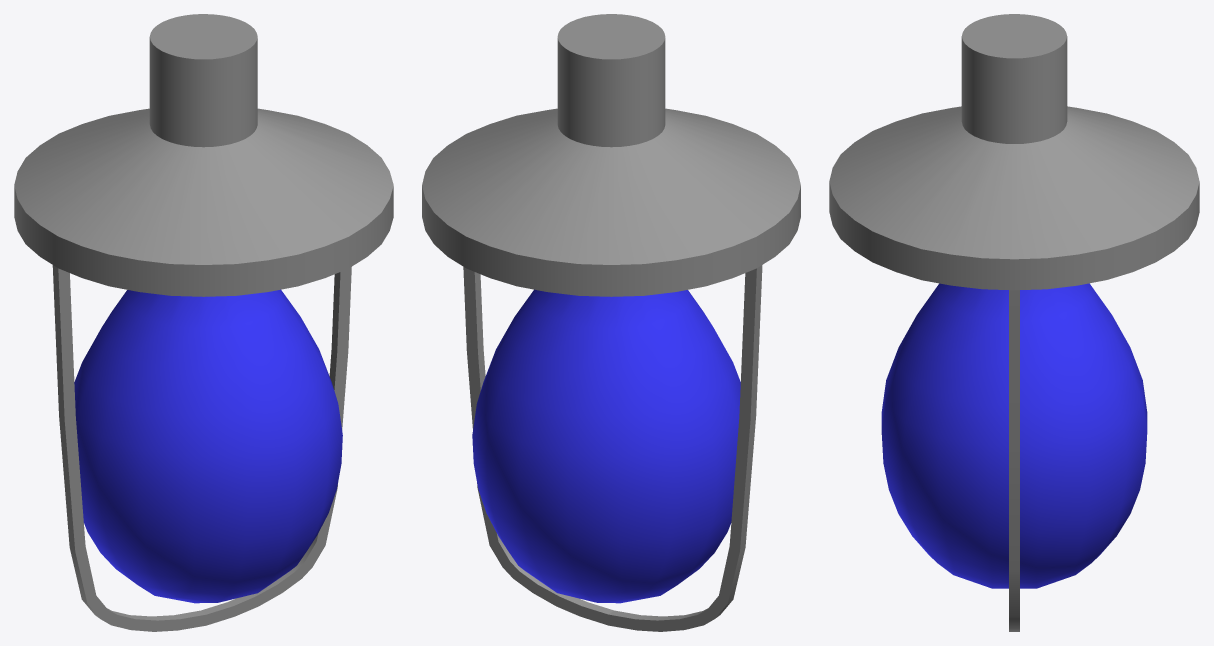
File: Lights_02_mesh.fbx
3 renders of one model, left to right at view 1: azimuth 30°, elevation 25°; view 2: azimuth 150°, elevation 25°; view 3: azimuth 270°, elevation 25°, orthographic. The views are drawn at different scales.
Visible parts, largest first — view 1: Lights_02_mesh; view 2: Lights_02_mesh; view 3: Lights_02_mesh.
Part boxes in pixels (bbox=[...]): Lights_02_mesh: bbox=[14, 14, 393, 631]; Lights_02_mesh: bbox=[422, 14, 800, 631]; Lights_02_mesh: bbox=[829, 14, 1199, 631].
Size of the model in its own units: 11.15 by 19.11 by 11.18.
